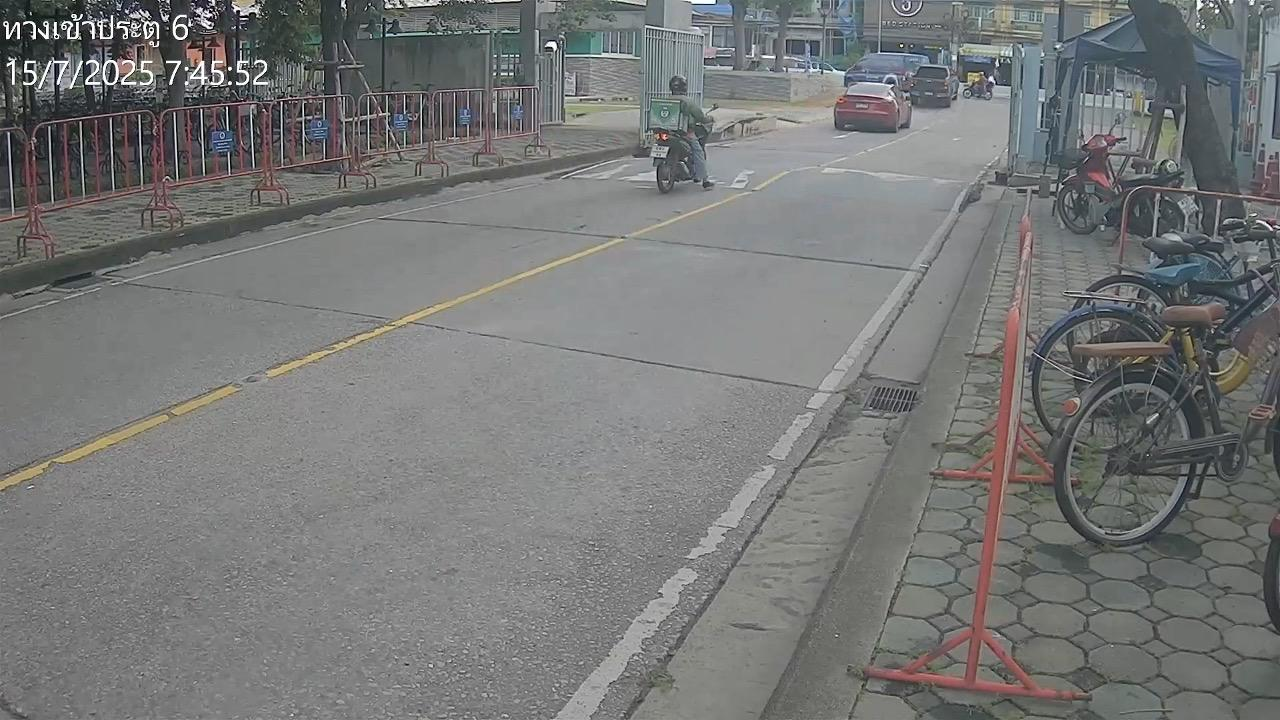With-Helmet: (669, 74, 690, 96)
